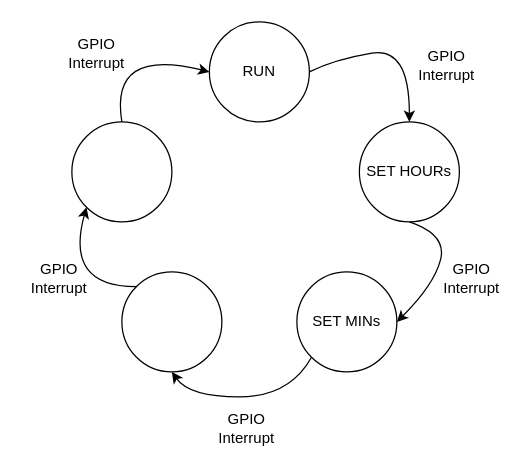
This 530x469 diagram has some shape labels left out. Each missing label, with the box of its shape:
PAUSE: (71, 121, 172, 222)
SET SECs: (121, 271, 222, 372)
